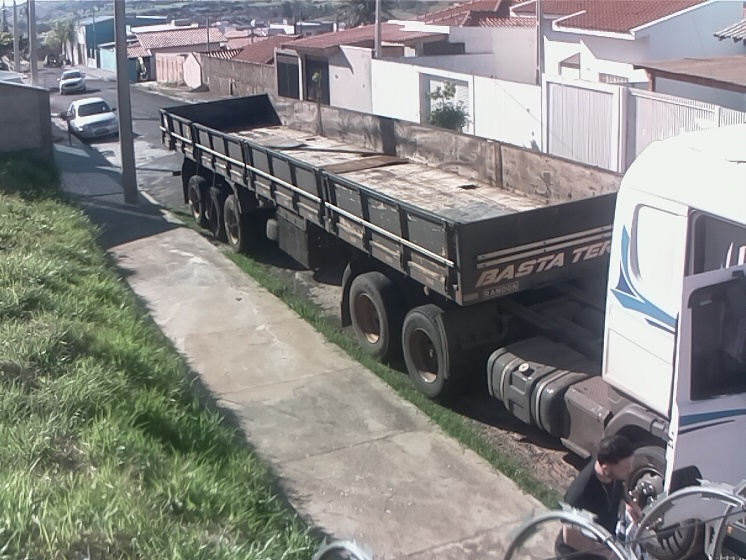person: (552, 432, 645, 560)
